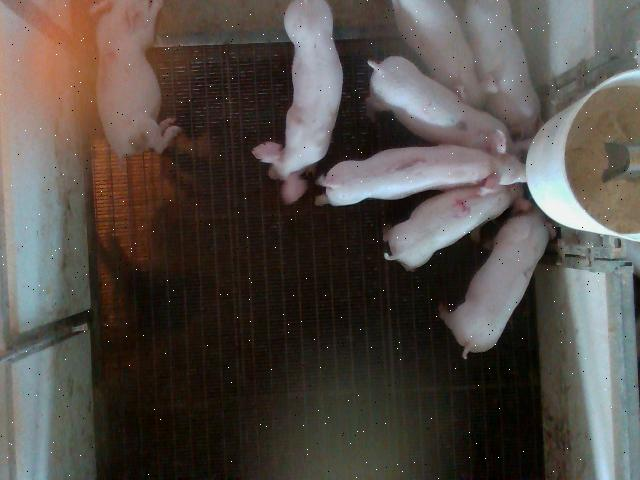pig-1: (316, 131, 526, 206)
pig-3: (96, 2, 181, 158)
pig-4: (384, 186, 531, 270)
